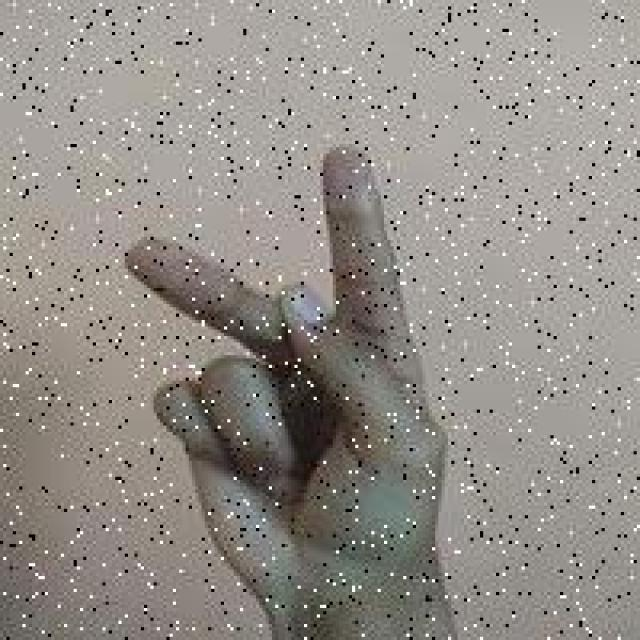K: (93, 142, 470, 610)
